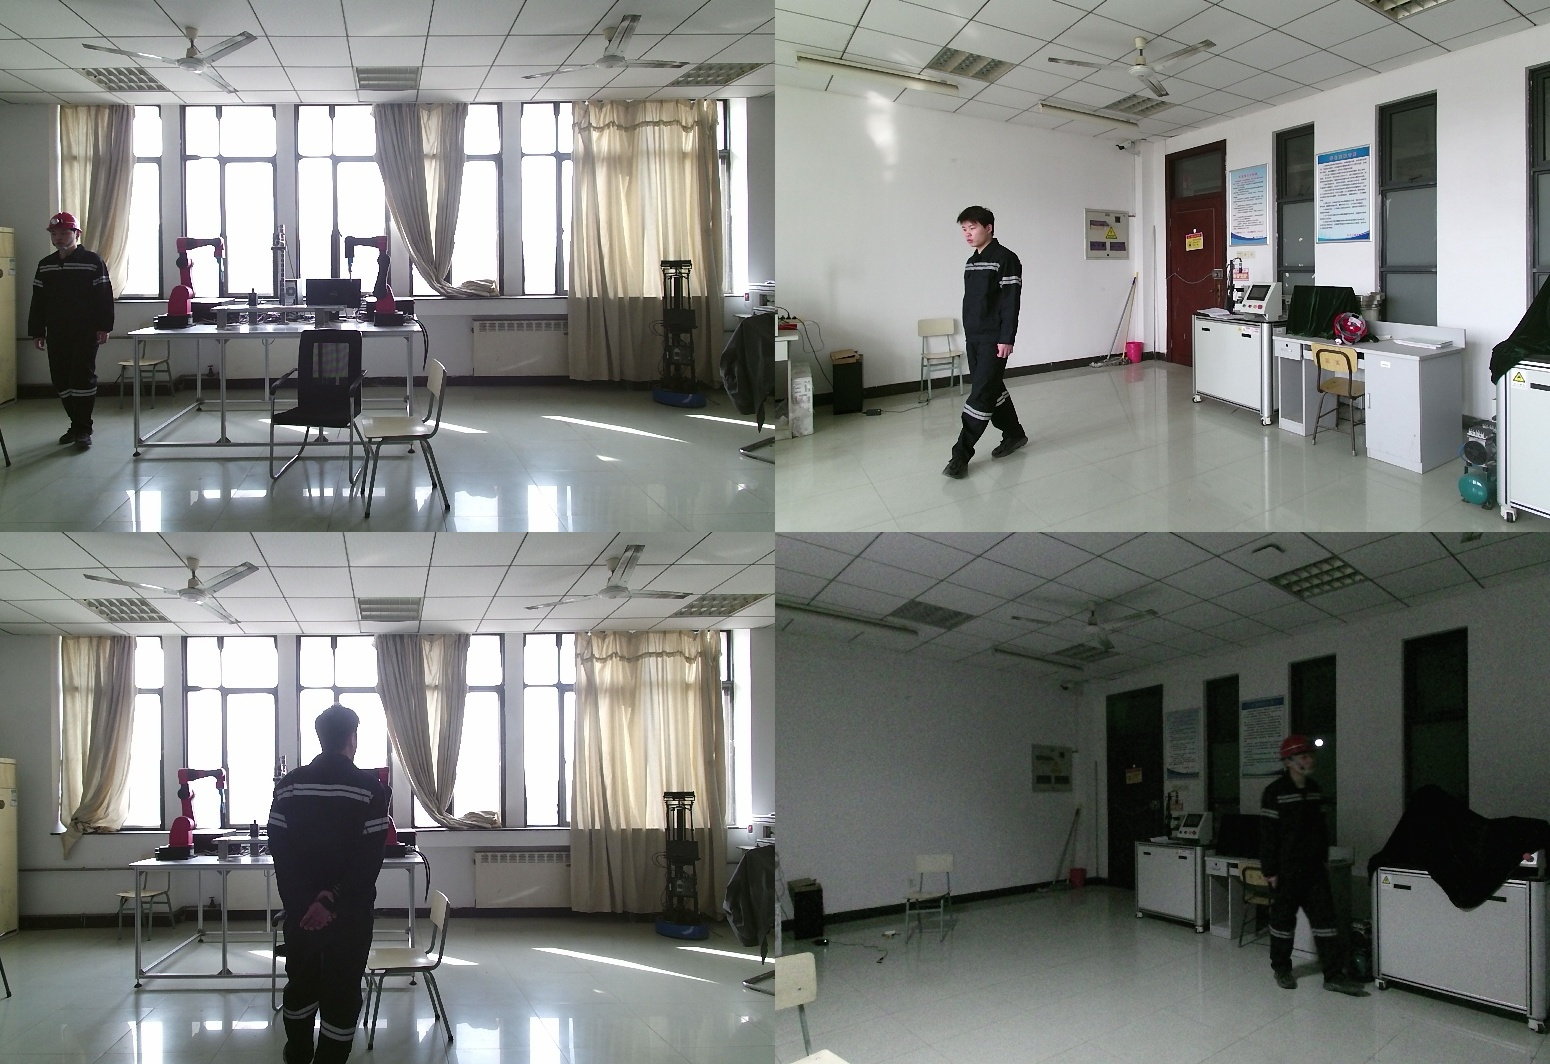person: (265, 705, 413, 1064), (1255, 734, 1376, 991), (943, 207, 1035, 477), (28, 215, 126, 447)
